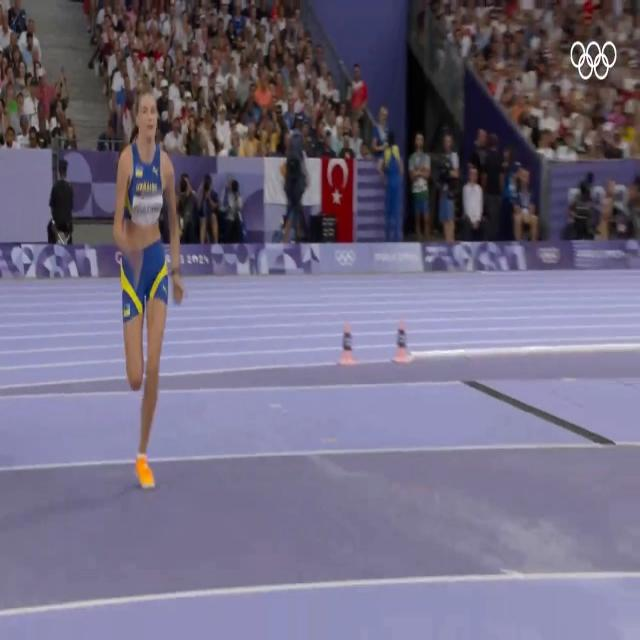run: (114, 86, 183, 489)
